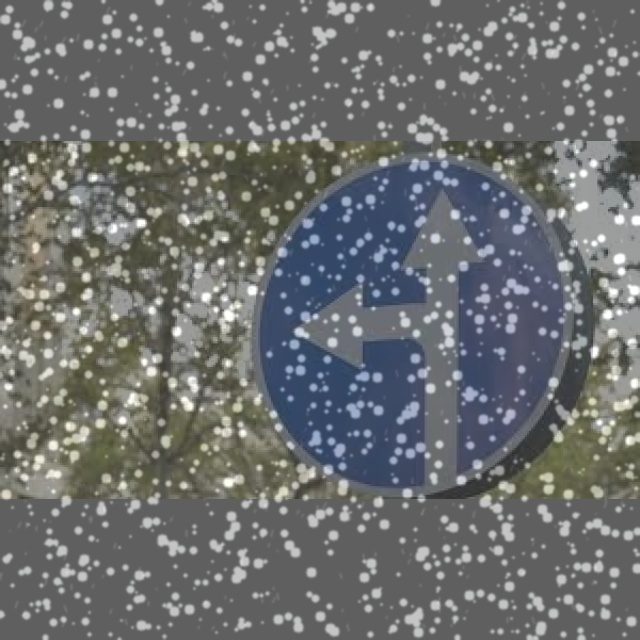Compulsory_Ahead_or_Turn_Left: (259, 172, 586, 479)
